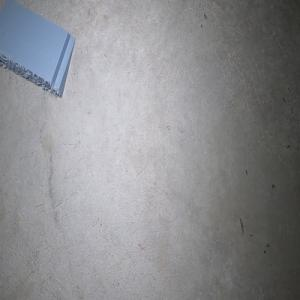PlasticPart: (0, 0, 75, 97)
